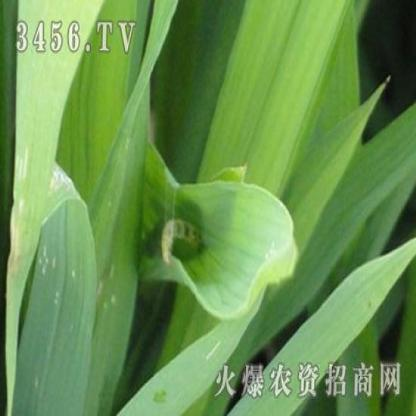leaf-folder: (146, 192, 217, 289)
